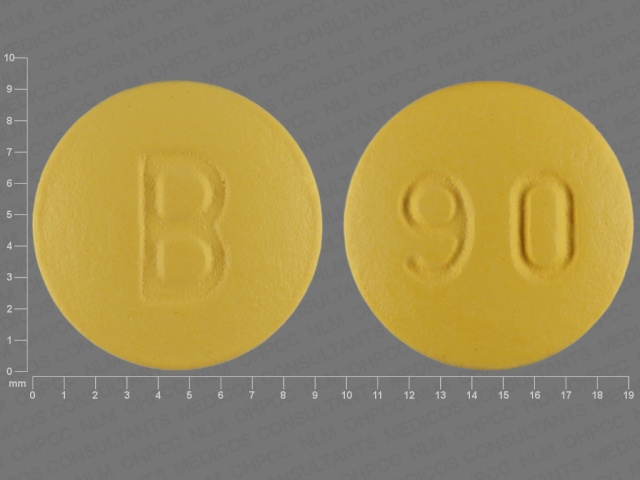0: (507, 168, 579, 286)
9: (398, 170, 475, 289)
B: (132, 148, 232, 311)
